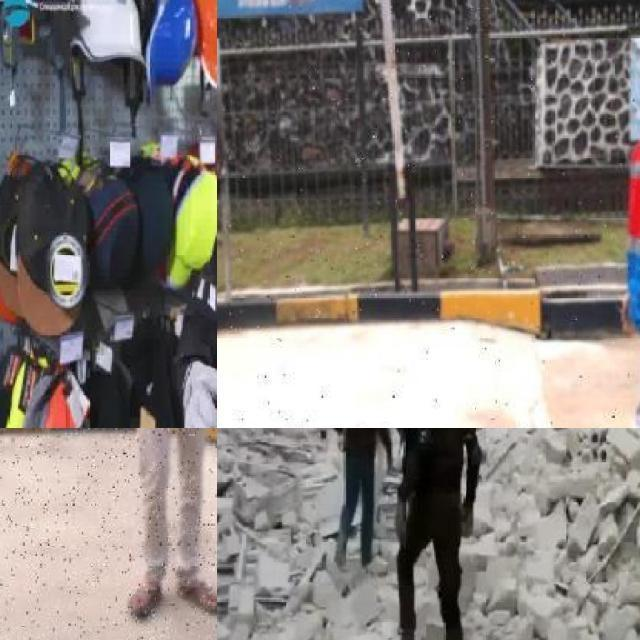apron: (180, 361, 217, 428)
